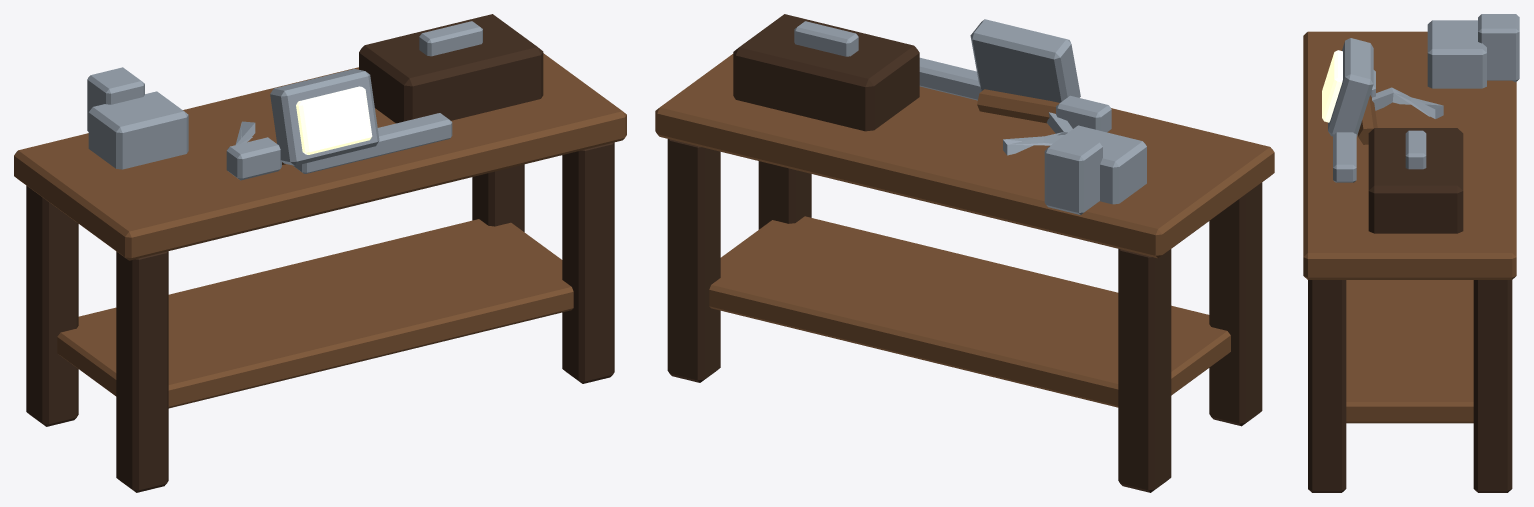
Rendered from Prop_Workbench.fbx.
The picture shows the model from 3 angles, left to right: view 1: azimuth 30°, elevation 25°; view 2: azimuth 150°, elevation 25°; view 3: azimuth 270°, elevation 25°; orthographic projection. The views are drawn at different scales.
Parts seen in each view (by area): view 1: Prop_Workbench; view 2: Prop_Workbench; view 3: Prop_Workbench.
Part boxes in pixels (x1,y1,x2,y2): Prop_Workbench: (14,14,626,492); Prop_Workbench: (655,14,1274,492); Prop_Workbench: (1303,14,1519,492).
Size of the model in its own units: 180 by 118 by 73.
